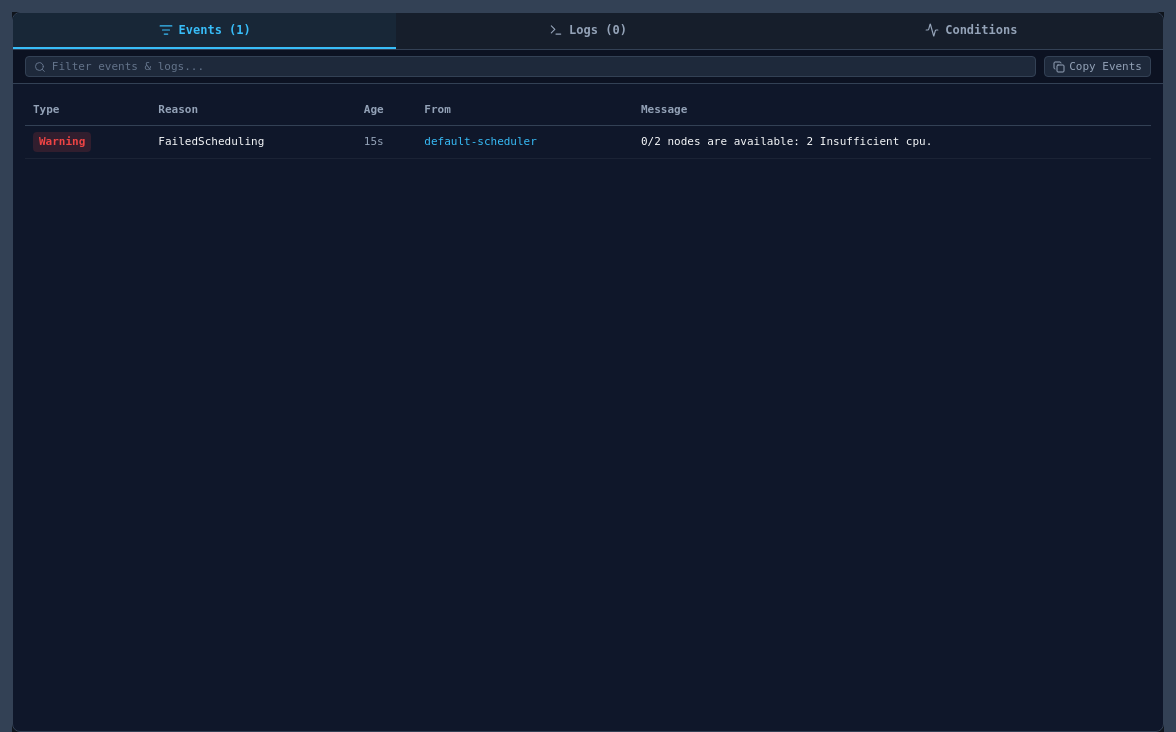
Test case: DiagnosticLogPanel › renders dynamic conditions reflecting failed scheduling
Click the tab "Conditions" at point(971, 31), box [780,13,1163,49]
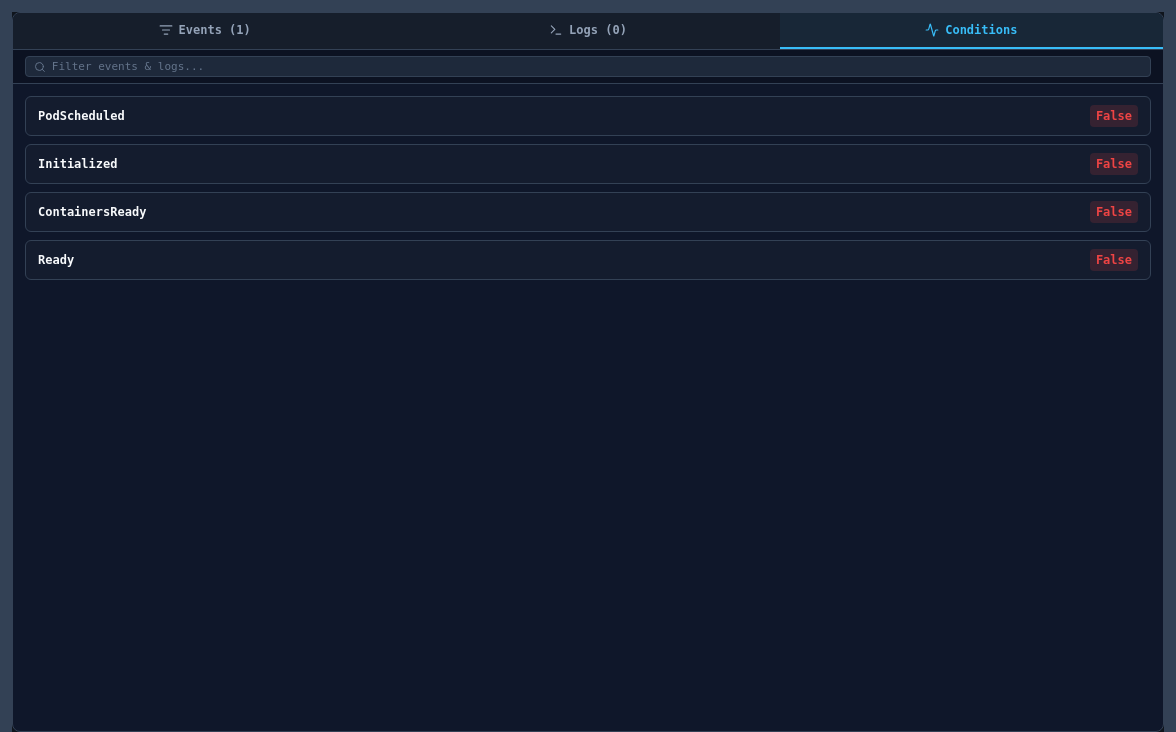
Now the text "PodScheduled" is shown, box [38,107,125,125]
Now the text "ContainersReady" is shown, box [38,203,146,221]
